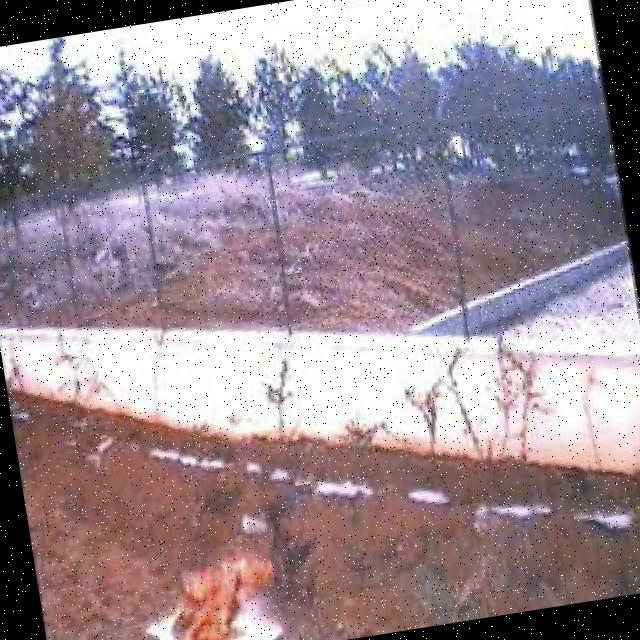fire: (147, 543, 282, 640)
